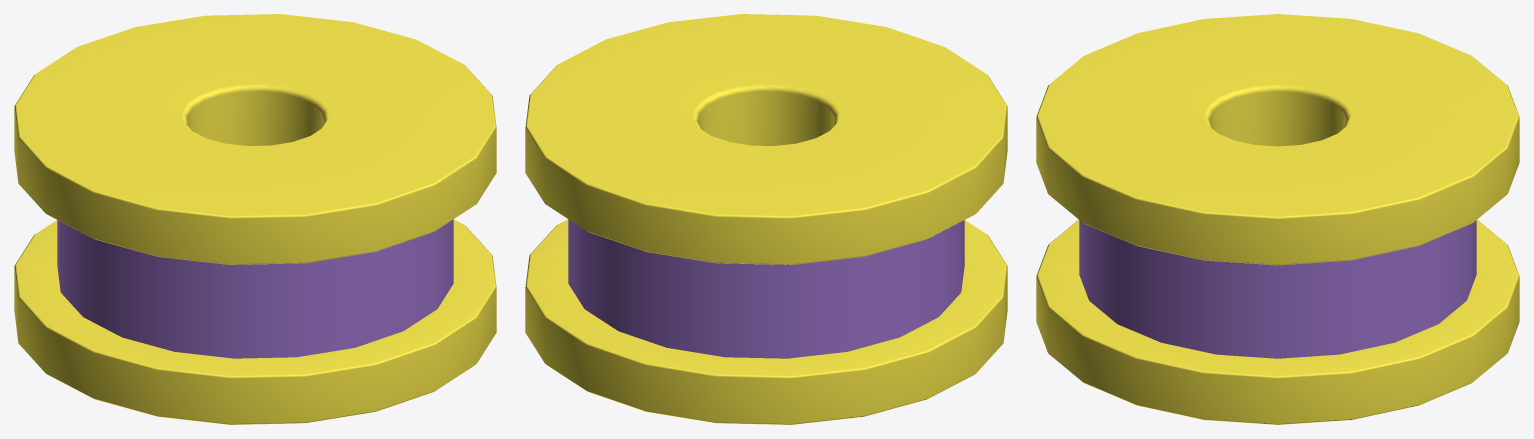
Rendered from Public_19_Skein_of_thread_9.glb.
The picture shows the model from 3 angles, left to right: view 1: azimuth 30°, elevation 25°; view 2: azimuth 150°, elevation 25°; view 3: azimuth 270°, elevation 25°; orthographic projection.
Parts seen in each view (by area): view 1: Public_19_Skein_of_thread_9; view 2: Public_19_Skein_of_thread_9; view 3: Public_19_Skein_of_thread_9.
Boxes of the visible parts, bbox=[...] form: Public_19_Skein_of_thread_9: bbox=[14, 14, 496, 424]; Public_19_Skein_of_thread_9: bbox=[525, 14, 1007, 424]; Public_19_Skein_of_thread_9: bbox=[1036, 14, 1519, 424].
Size of the model in its own units: 0.5405 by 0.2572 by 0.5405.
1 material, 1 textured.
